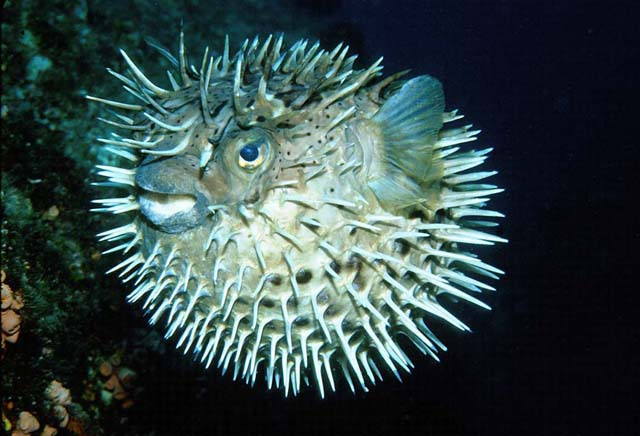Diodon_holocanthus: (82, 23, 552, 400)
